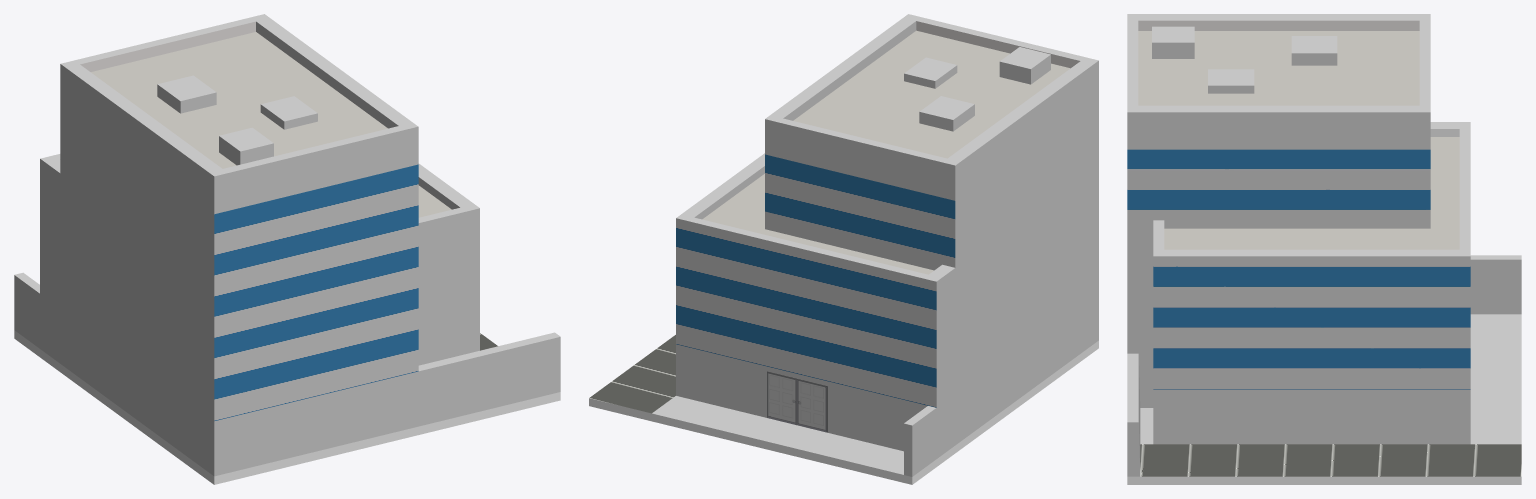
The model's file is buildings_6.dae.
3 views of the same model, side by side, from view 1: azimuth 30°, elevation 25°; view 2: azimuth 150°, elevation 25°; view 3: azimuth 270°, elevation 25° (orthographic). The views are drawn at different scales.
Parts seen in each view (by area): view 1: group_0 (×10); view 2: group_0 (×13); view 3: group_0 (×11).
Part boxes in pixels (box(x1,y1,x2,y2)): group_0 (×10): box(14, 14, 560, 484); group_0 (×13): box(589, 14, 1098, 484); group_0 (×11): box(1127, 14, 1521, 484).
Bounding box in the file's own units: 134 × 134 × 116.
Materials: 7 (6 with a texture image).
